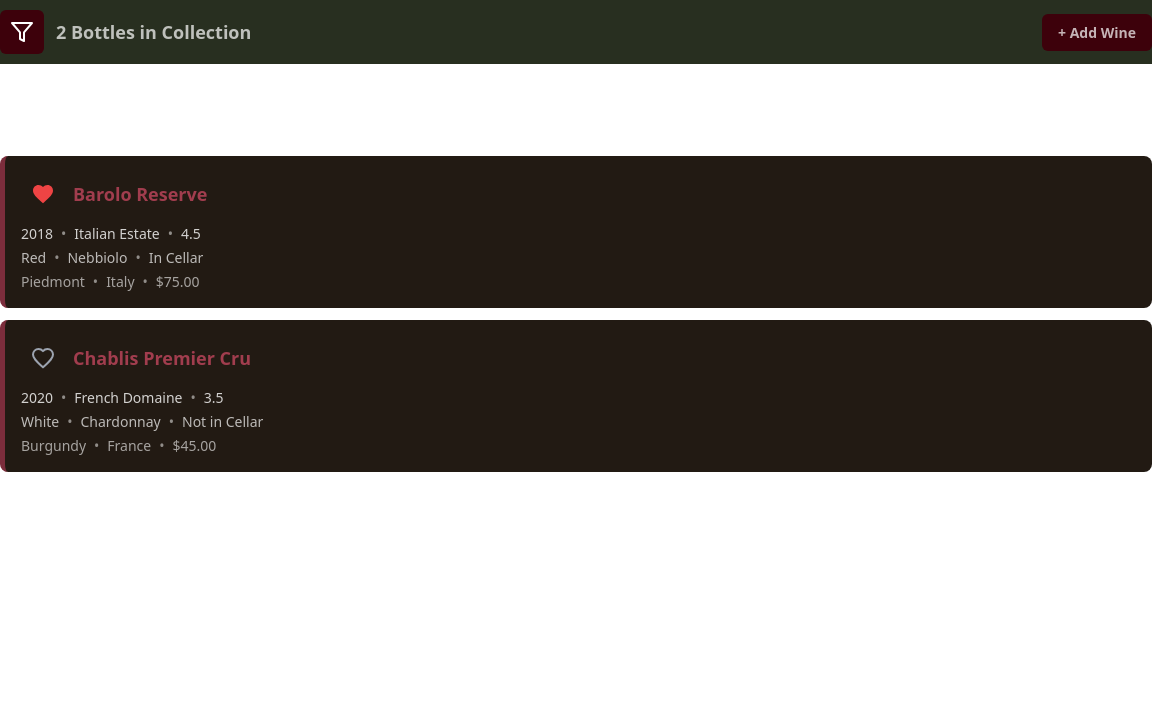
Test: Home Page - Mobile View › Mobile Filter Toggle › opens filter drawer when filter toggle clicked
Expected: the text "Barolo Reserve" is shown, [73,180,207,208]
Click the filter toggle
Click the button named "filter".
click(22, 32)  # box [0,10,44,54]
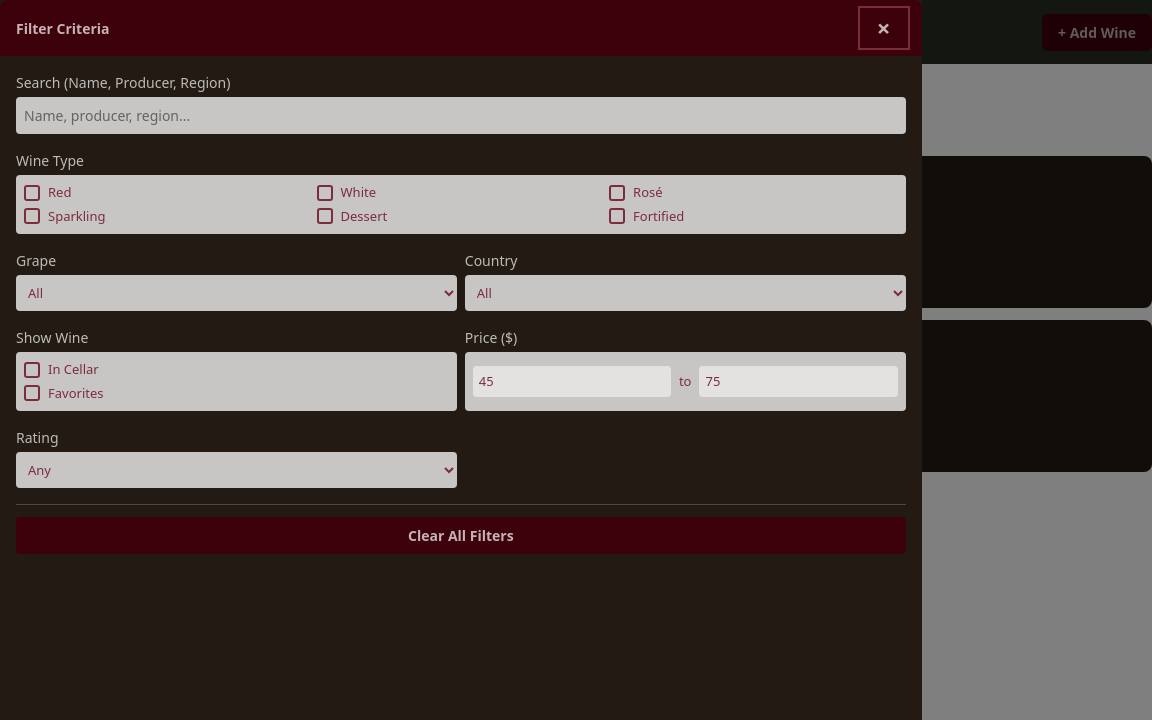
Expected: the button named "close" is shown, [862,10,906,46]
